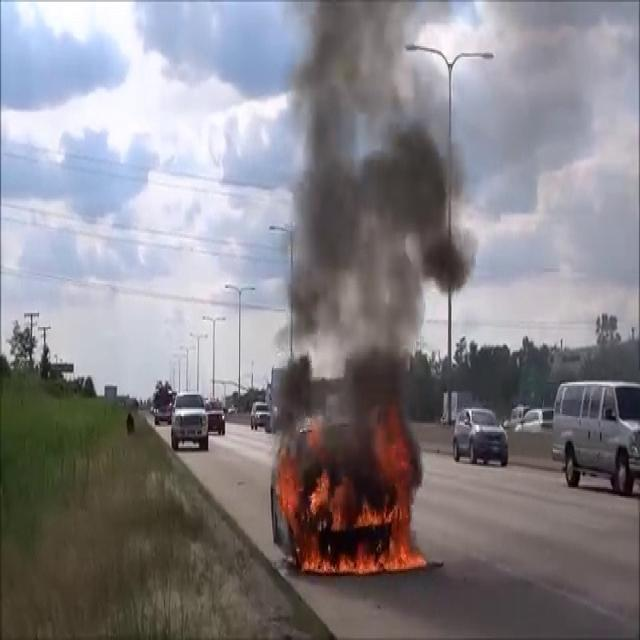Fire: (278, 421, 430, 578)
Smoke: (275, 0, 473, 430)
